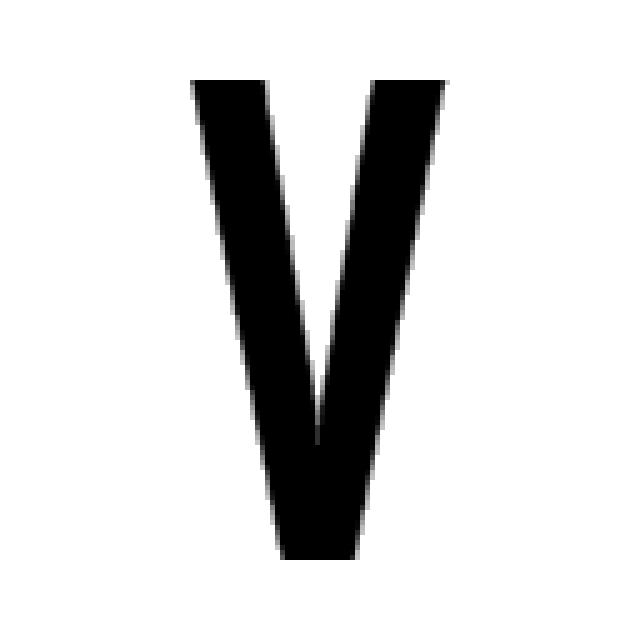V: (180, 65, 450, 560)
